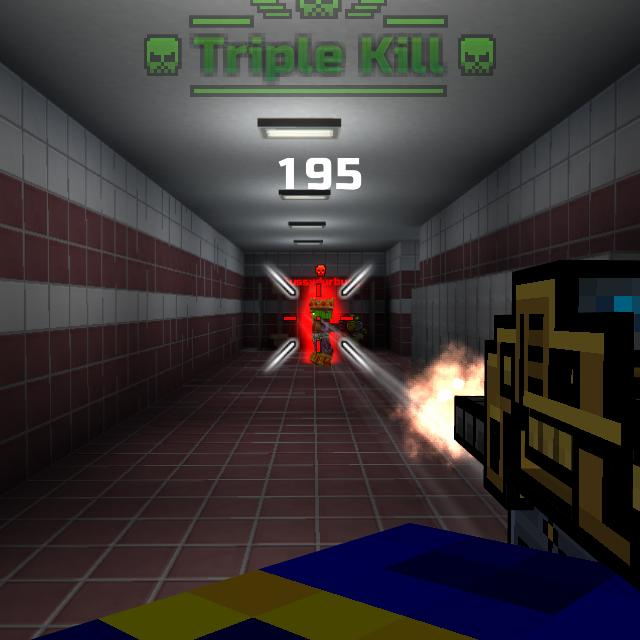Enemy: (309, 298, 343, 367)
